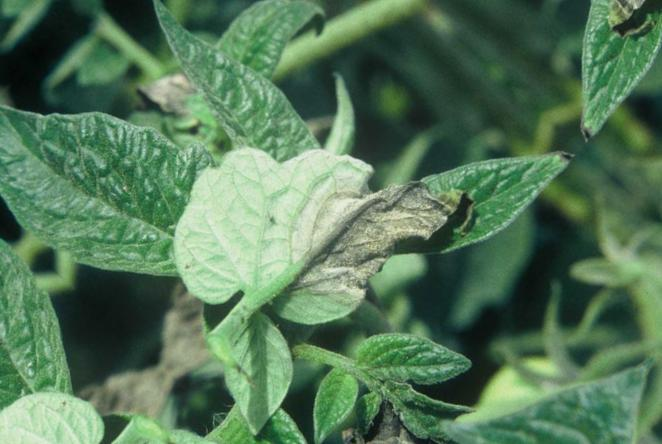Tomato leaf late blight: (111, 0, 589, 444)
